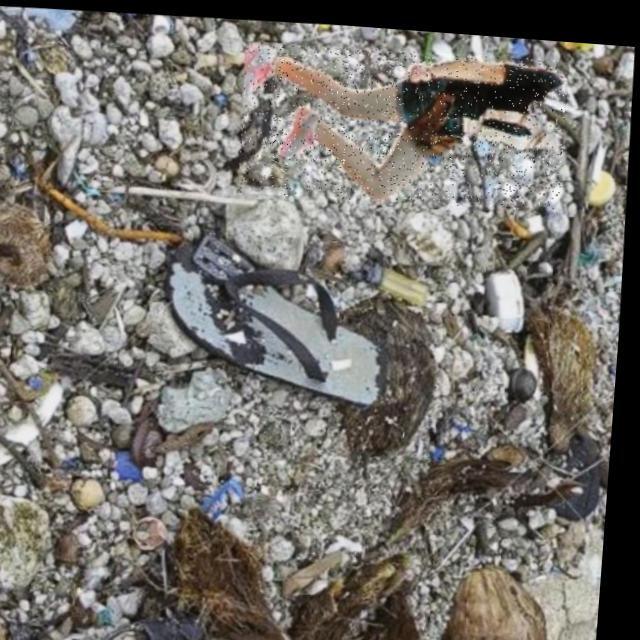Person in Rubble: (236, 32, 569, 208)
